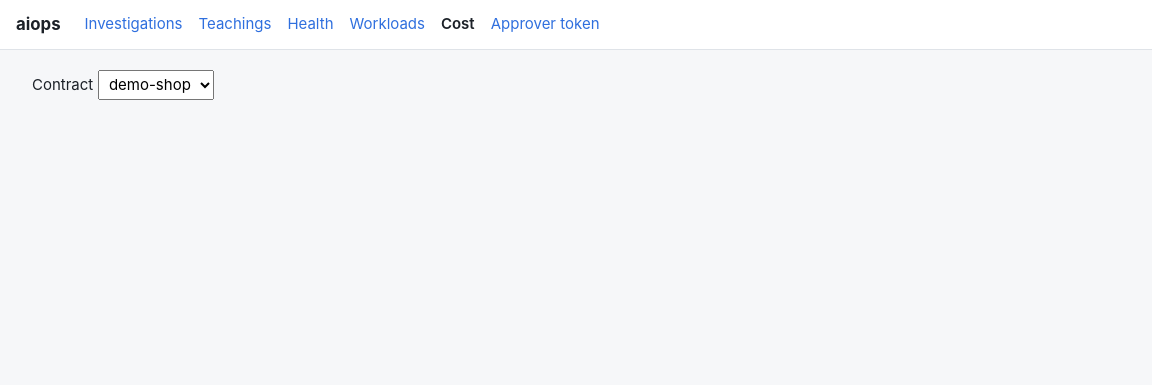
Test case: another Contract's Cost page starts by namespace
Select "demo-bank" in the dropdown labelled "Contract" at (156, 85), box [98, 70, 214, 100]
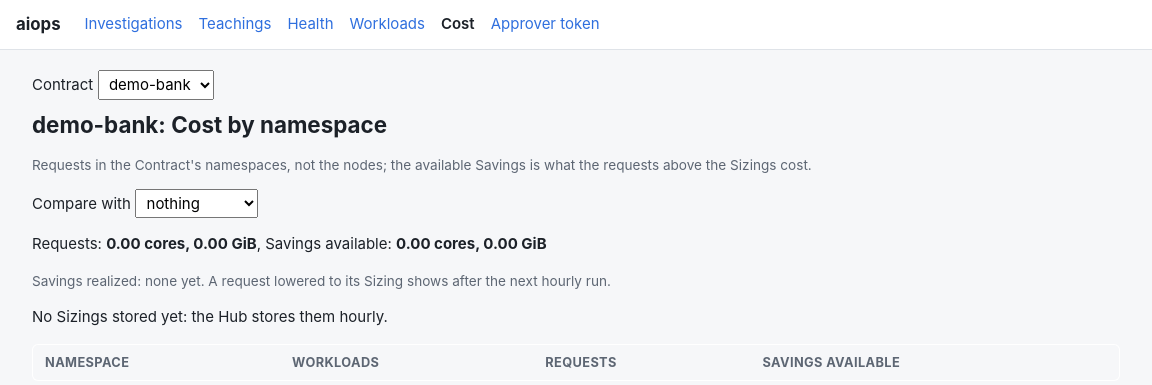
Check: the heading "demo-bank: Cost by namespace" is shown, box [32, 111, 387, 138]
